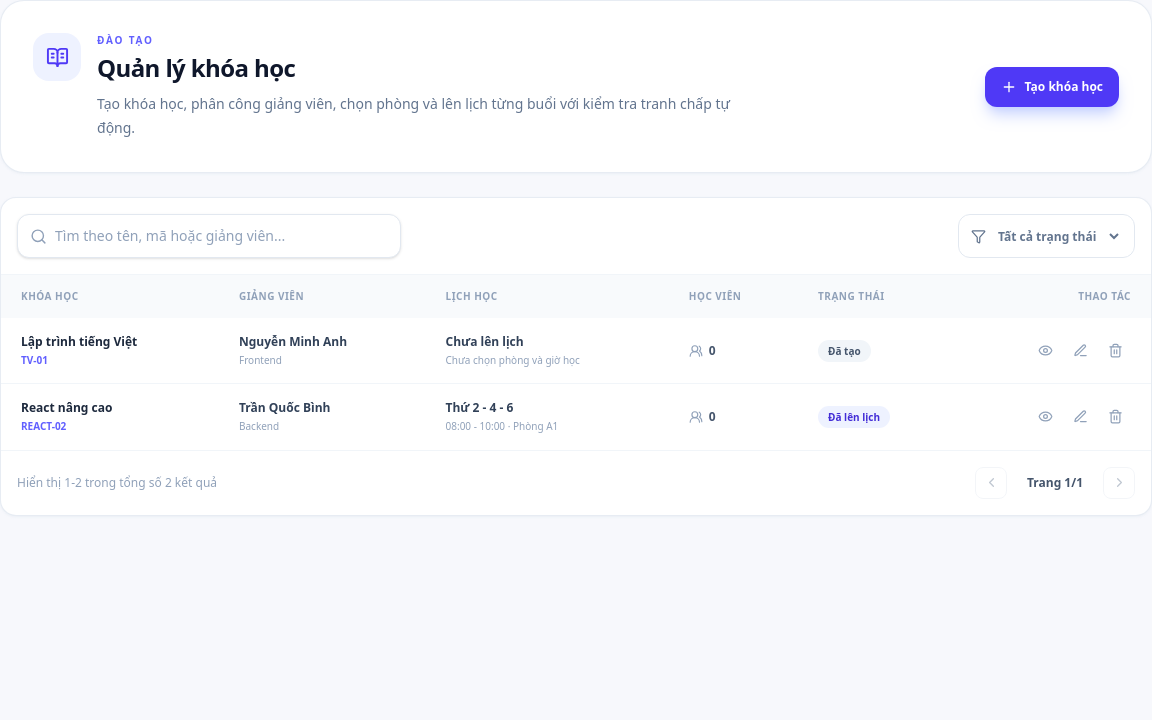
Scenario: CoursesPage › lọc khóa học theo trạng thái
Select "Đã lên lịch" in the dropdown at (1058, 236), box [994,226,1122,246]
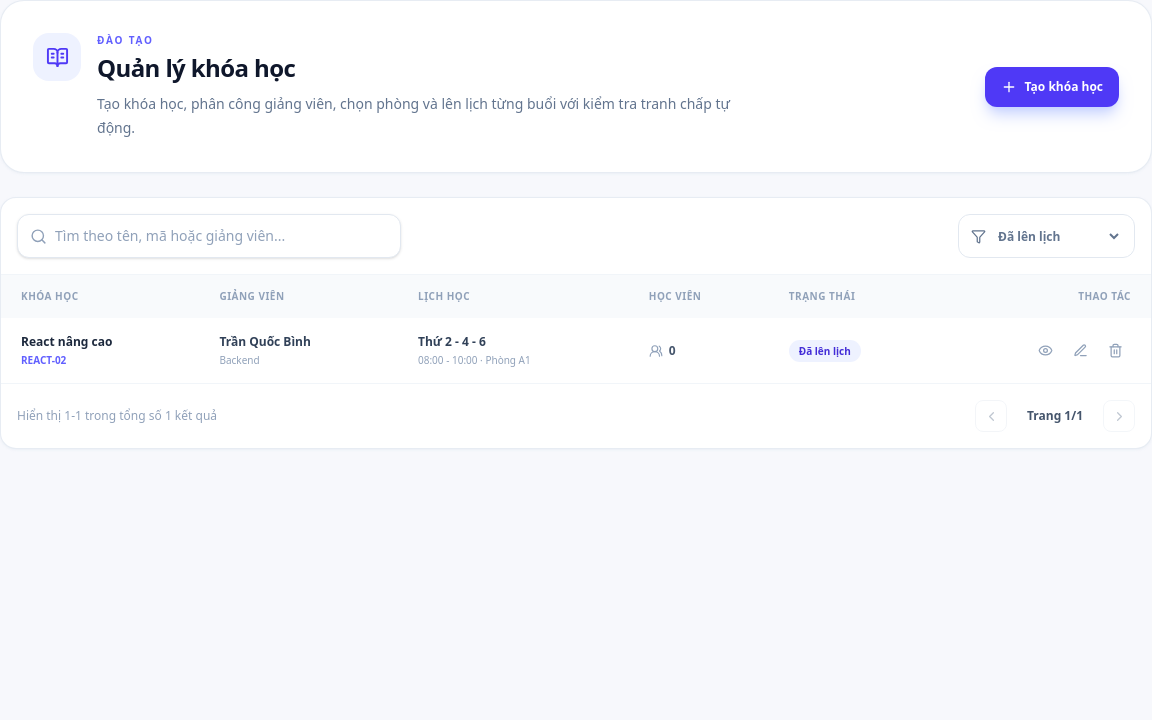
Check: the text "React nâng cao" is shown, box [21,333,112,350]
Check: the text "Lập trình tiếng Việt" is gone
Check: the text "Hiển thị 1-1 trong tổng số 1 kết quả" is shown, box [17,408,217,424]
